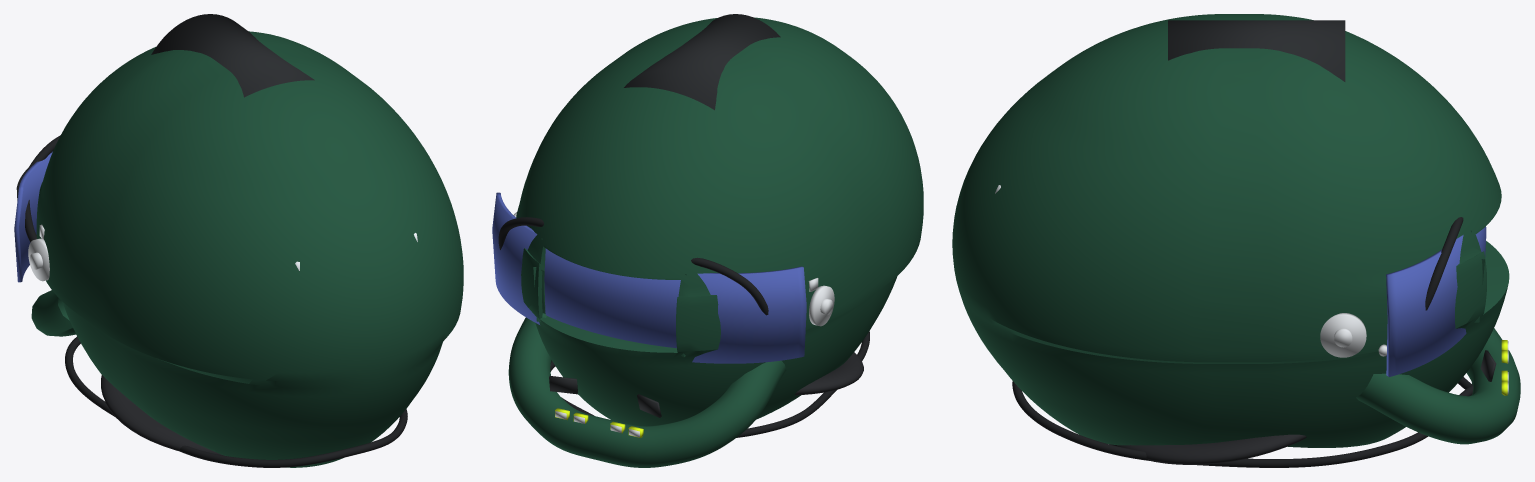
Rendered from pro_karting_helmet_assembly.glb.
The picture shows the model from 3 angles, left to right: view 1: azimuth 30°, elevation 25°; view 2: azimuth 150°, elevation 25°; view 3: azimuth 270°, elevation 25°; orthographic projection. The views are drawn at different scales.
Parts seen in each view (by area): view 1: 01_BRG_METALLIC_SHELL, 02_CROWN_CARBON_INSERT, 01_BASE_RUBBER_SEAL, 08_NOMEX_NECK_ROLL, 05_IRIDIUM_VISOR, 04_CHIN_DEFLECTOR, 06_PIVOT_DISC_L, 01_EYEPORT_GASKET; view 2: 01_BRG_METALLIC_SHELL, 05_IRIDIUM_VISOR, 04_CHIN_DEFLECTOR, 02_CROWN_CARBON_INSERT, 01_EYEPORT_GASKET, 08_NOMEX_NECK_ROLL, 01_BASE_RUBBER_SEAL, 06_PIVOT_DISC_L, 04_DRIVER_NUMBER_42_R; view 3: 01_BRG_METALLIC_SHELL, 04_CHIN_DEFLECTOR, 05_IRIDIUM_VISOR, 02_CROWN_CARBON_INSERT, 01_BASE_RUBBER_SEAL, 08_NOMEX_NECK_ROLL, 06_PIVOT_DISC_R, 01_EYEPORT_GASKET.
Boxes of the visible parts, box(x1,y1,x2,y2) form: 01_BRG_METALLIC_SHELL: box(36, 31, 463, 467); 02_CROWN_CARBON_INSERT: box(151, 14, 314, 97); 01_BASE_RUBBER_SEAL: box(65, 336, 407, 467); 08_NOMEX_NECK_ROLL: box(101, 375, 223, 455); 05_IRIDIUM_VISOR: box(14, 151, 52, 282); 04_CHIN_DEFLECTOR: box(31, 290, 75, 336); 06_PIVOT_DISC_L: box(28, 238, 49, 281); 01_EYEPORT_GASKET: box(25, 135, 60, 242); 01_BRG_METALLIC_SHELL: box(516, 17, 923, 426); 05_IRIDIUM_VISOR: box(492, 192, 806, 363); 04_CHIN_DEFLECTOR: box(508, 317, 786, 467); 02_CROWN_CARBON_INSERT: box(624, 14, 780, 110); 01_EYEPORT_GASKET: box(498, 217, 768, 315); 08_NOMEX_NECK_ROLL: box(795, 352, 863, 395); 01_BASE_RUBBER_SEAL: box(550, 331, 869, 437); 06_PIVOT_DISC_L: box(809, 285, 834, 326); 04_DRIVER_NUMBER_42_R: box(549, 376, 577, 394); 01_BRG_METALLIC_SHELL: box(952, 14, 1509, 447); 04_CHIN_DEFLECTOR: box(1356, 328, 1520, 444); 05_IRIDIUM_VISOR: box(1386, 226, 1486, 376); 02_CROWN_CARBON_INSERT: box(1168, 20, 1345, 81); 01_BASE_RUBBER_SEAL: box(1012, 377, 1473, 467); 08_NOMEX_NECK_ROLL: box(1110, 434, 1306, 464); 06_PIVOT_DISC_R: box(1320, 313, 1366, 357); 01_EYEPORT_GASKET: box(1385, 217, 1463, 356).
Size of the model in its own units: 2.08 by 2.14 by 2.82.
